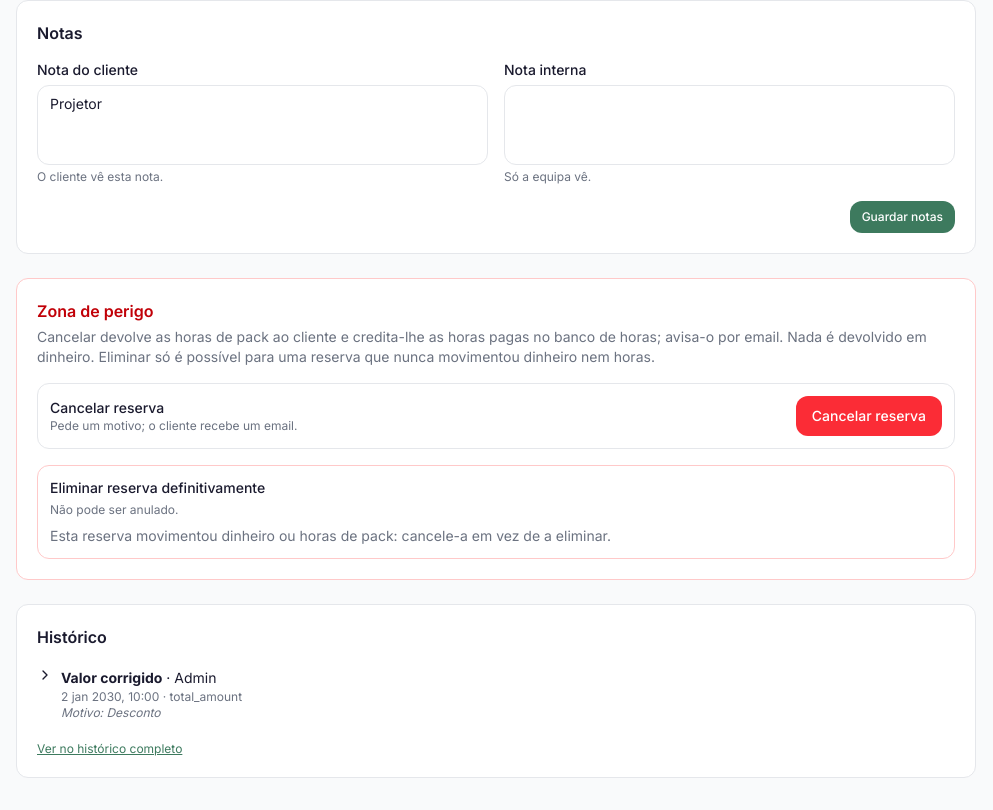
Test: Reserva › shows customer, payment with the Stripe id, access code, notes and the history diff
(page scrolled)
Check: the text box labelled "Nota do cliente" holds "Projetor", box [37,85,488,165]
Check: the text "Valor corrigido" is shown, box [61,669,162,686]
Step 1. Click the button "Valor corrigido" → click(112, 678), box [37,665,955,721]
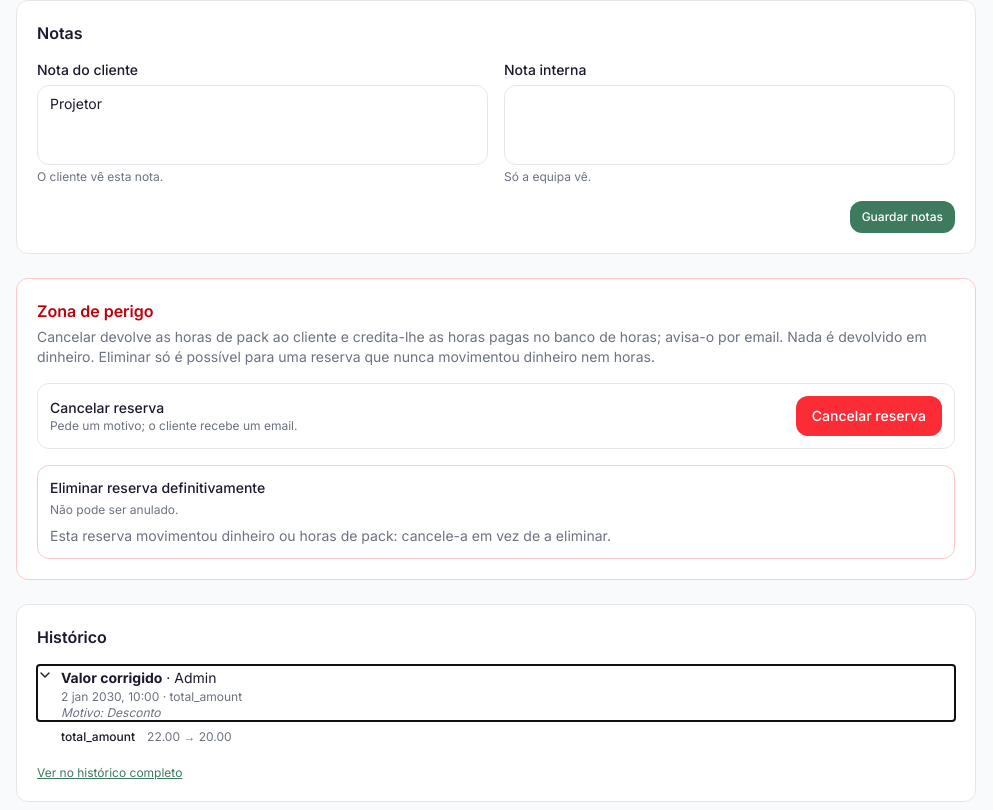
Check: the text "22.00 → 20.00" is shown, box [147,729,232,744]
